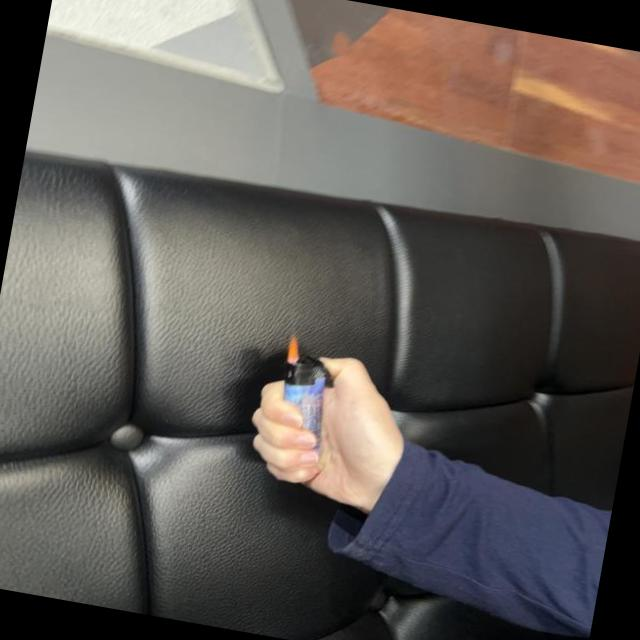Fire: (286, 334, 304, 362)
